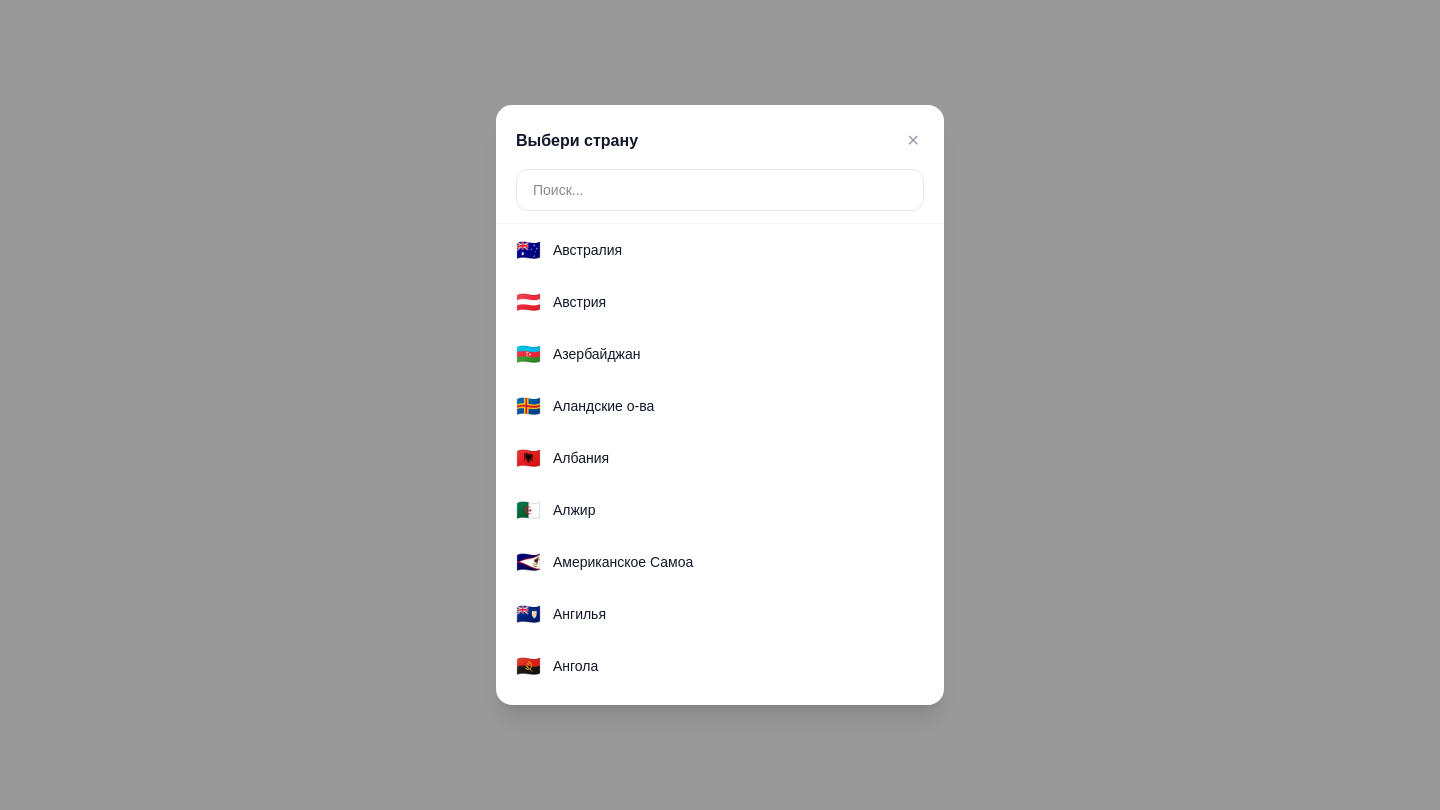
CountryPickerModal › filters the list by ISO code
Type "kz" into the search field with placeholder "Поиск..." at (720, 190), box [516,169,924,211]
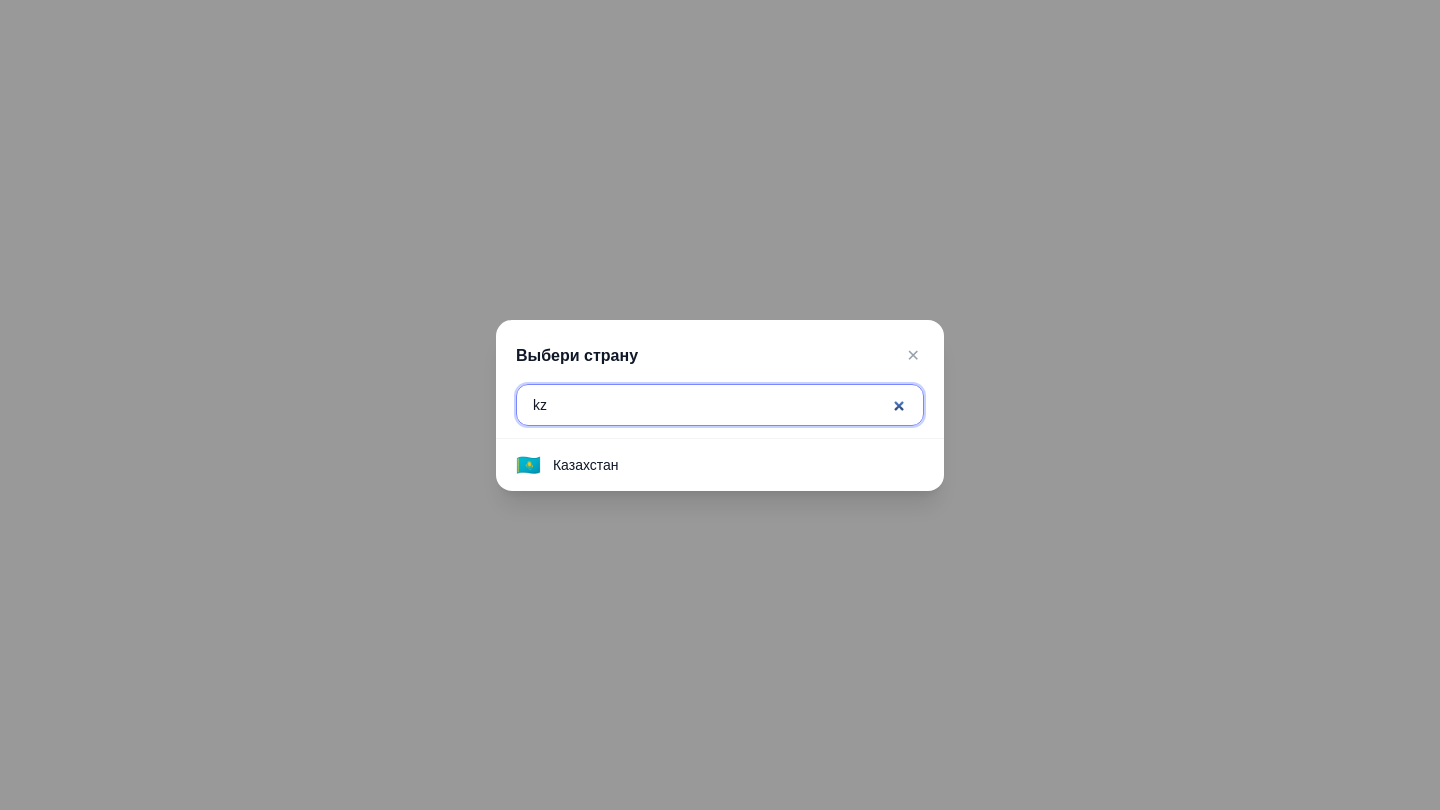
Expected: the text "Казахстан" is shown, [553,456,619,472]
